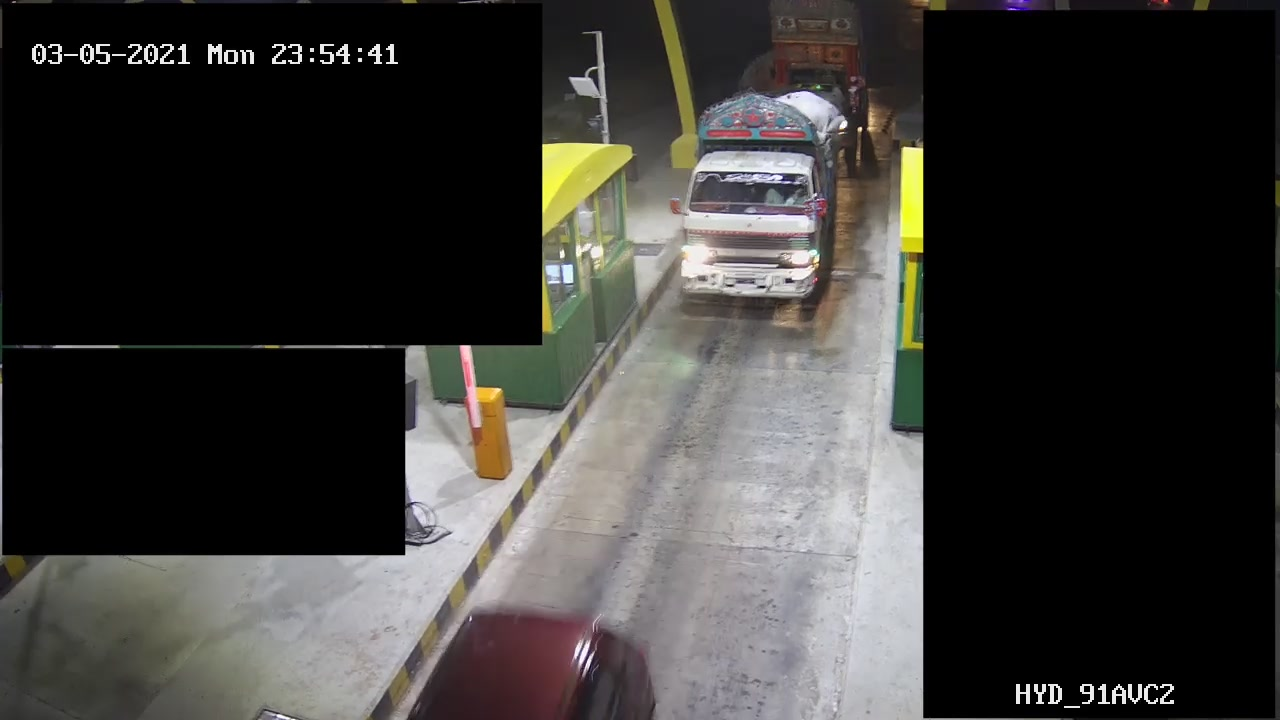F5: (676, 87, 841, 314)
